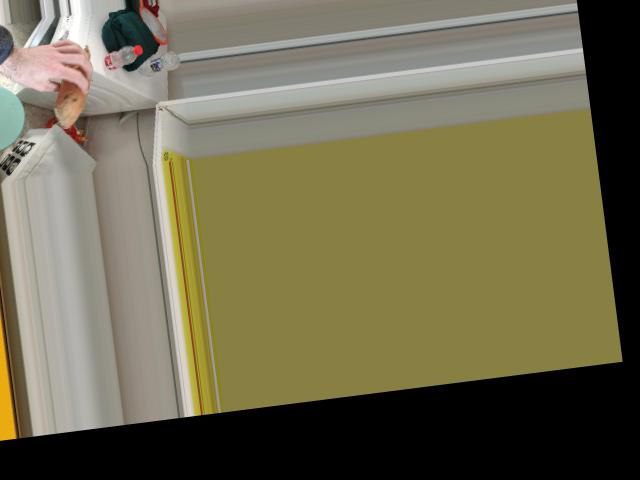sweet_potato: (53, 42, 97, 121)
